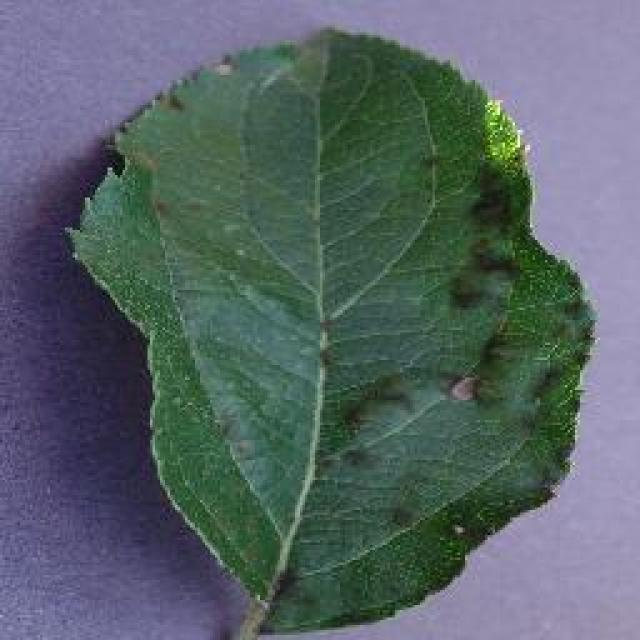apple scab disease: (62, 25, 598, 637)
